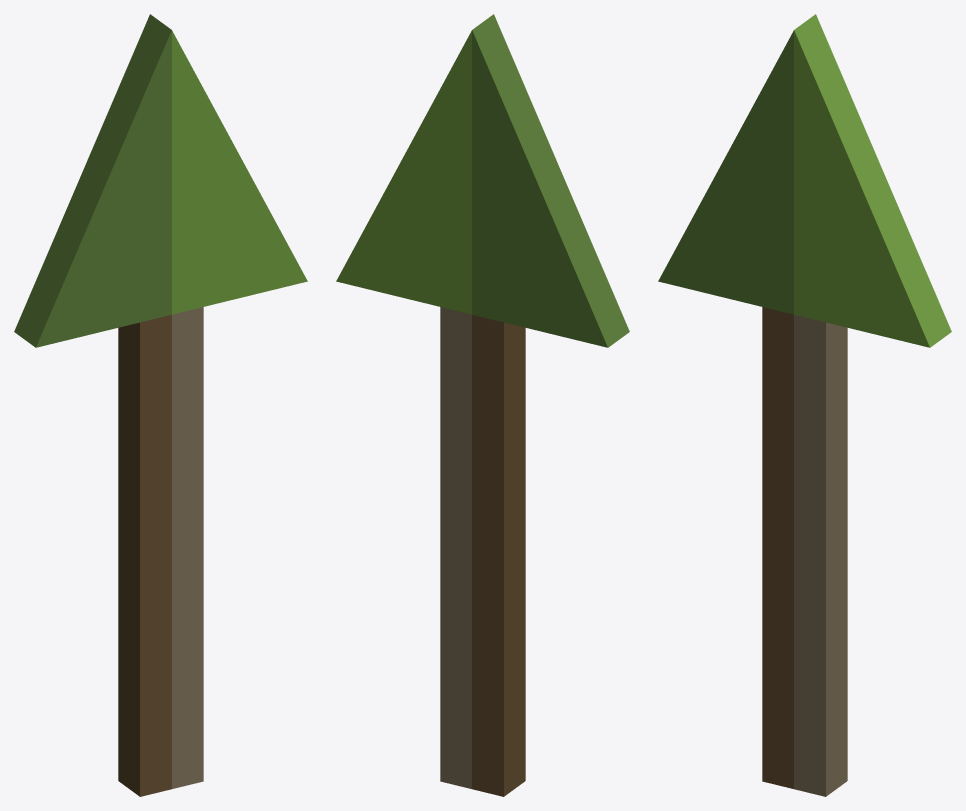
File: tree-big.fbx
3 renders of one model, left to right at view 1: azimuth 30°, elevation 25°; view 2: azimuth 150°, elevation 25°; view 3: azimuth 330°, elevation 25°, orthographic.
Parts seen in each view (by area): view 1: Plane; view 2: Plane; view 3: Plane.
Boxes of the visible parts, x1,y1,x2,y2 form: Plane: (14,14,307,796); Plane: (336,14,629,796); Plane: (658,14,951,796).
Size of the model in its own units: 18000 by 48000 by 2500.
